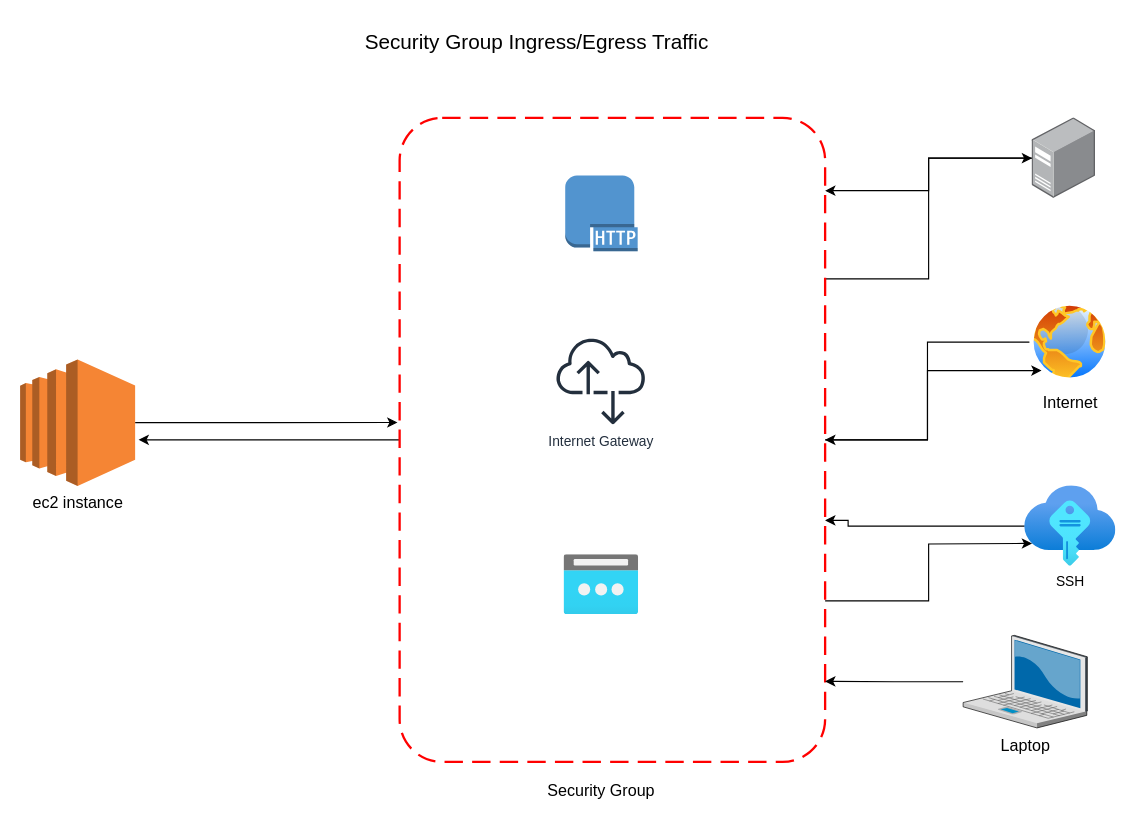
Image size: 1136x827. Some labels were removed from this diagram. Each missing label, with the centre of its shape:
Desktop PC: (1063,157)
IP Addresses: (601,584)
